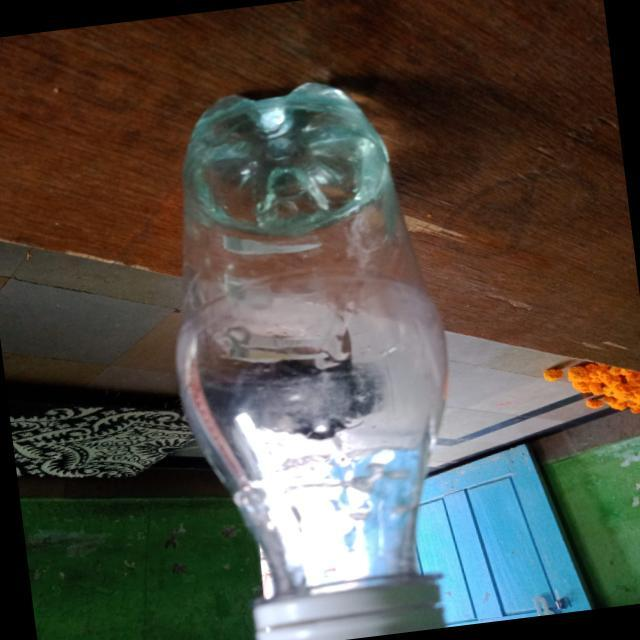good: (147, 65, 485, 640)
